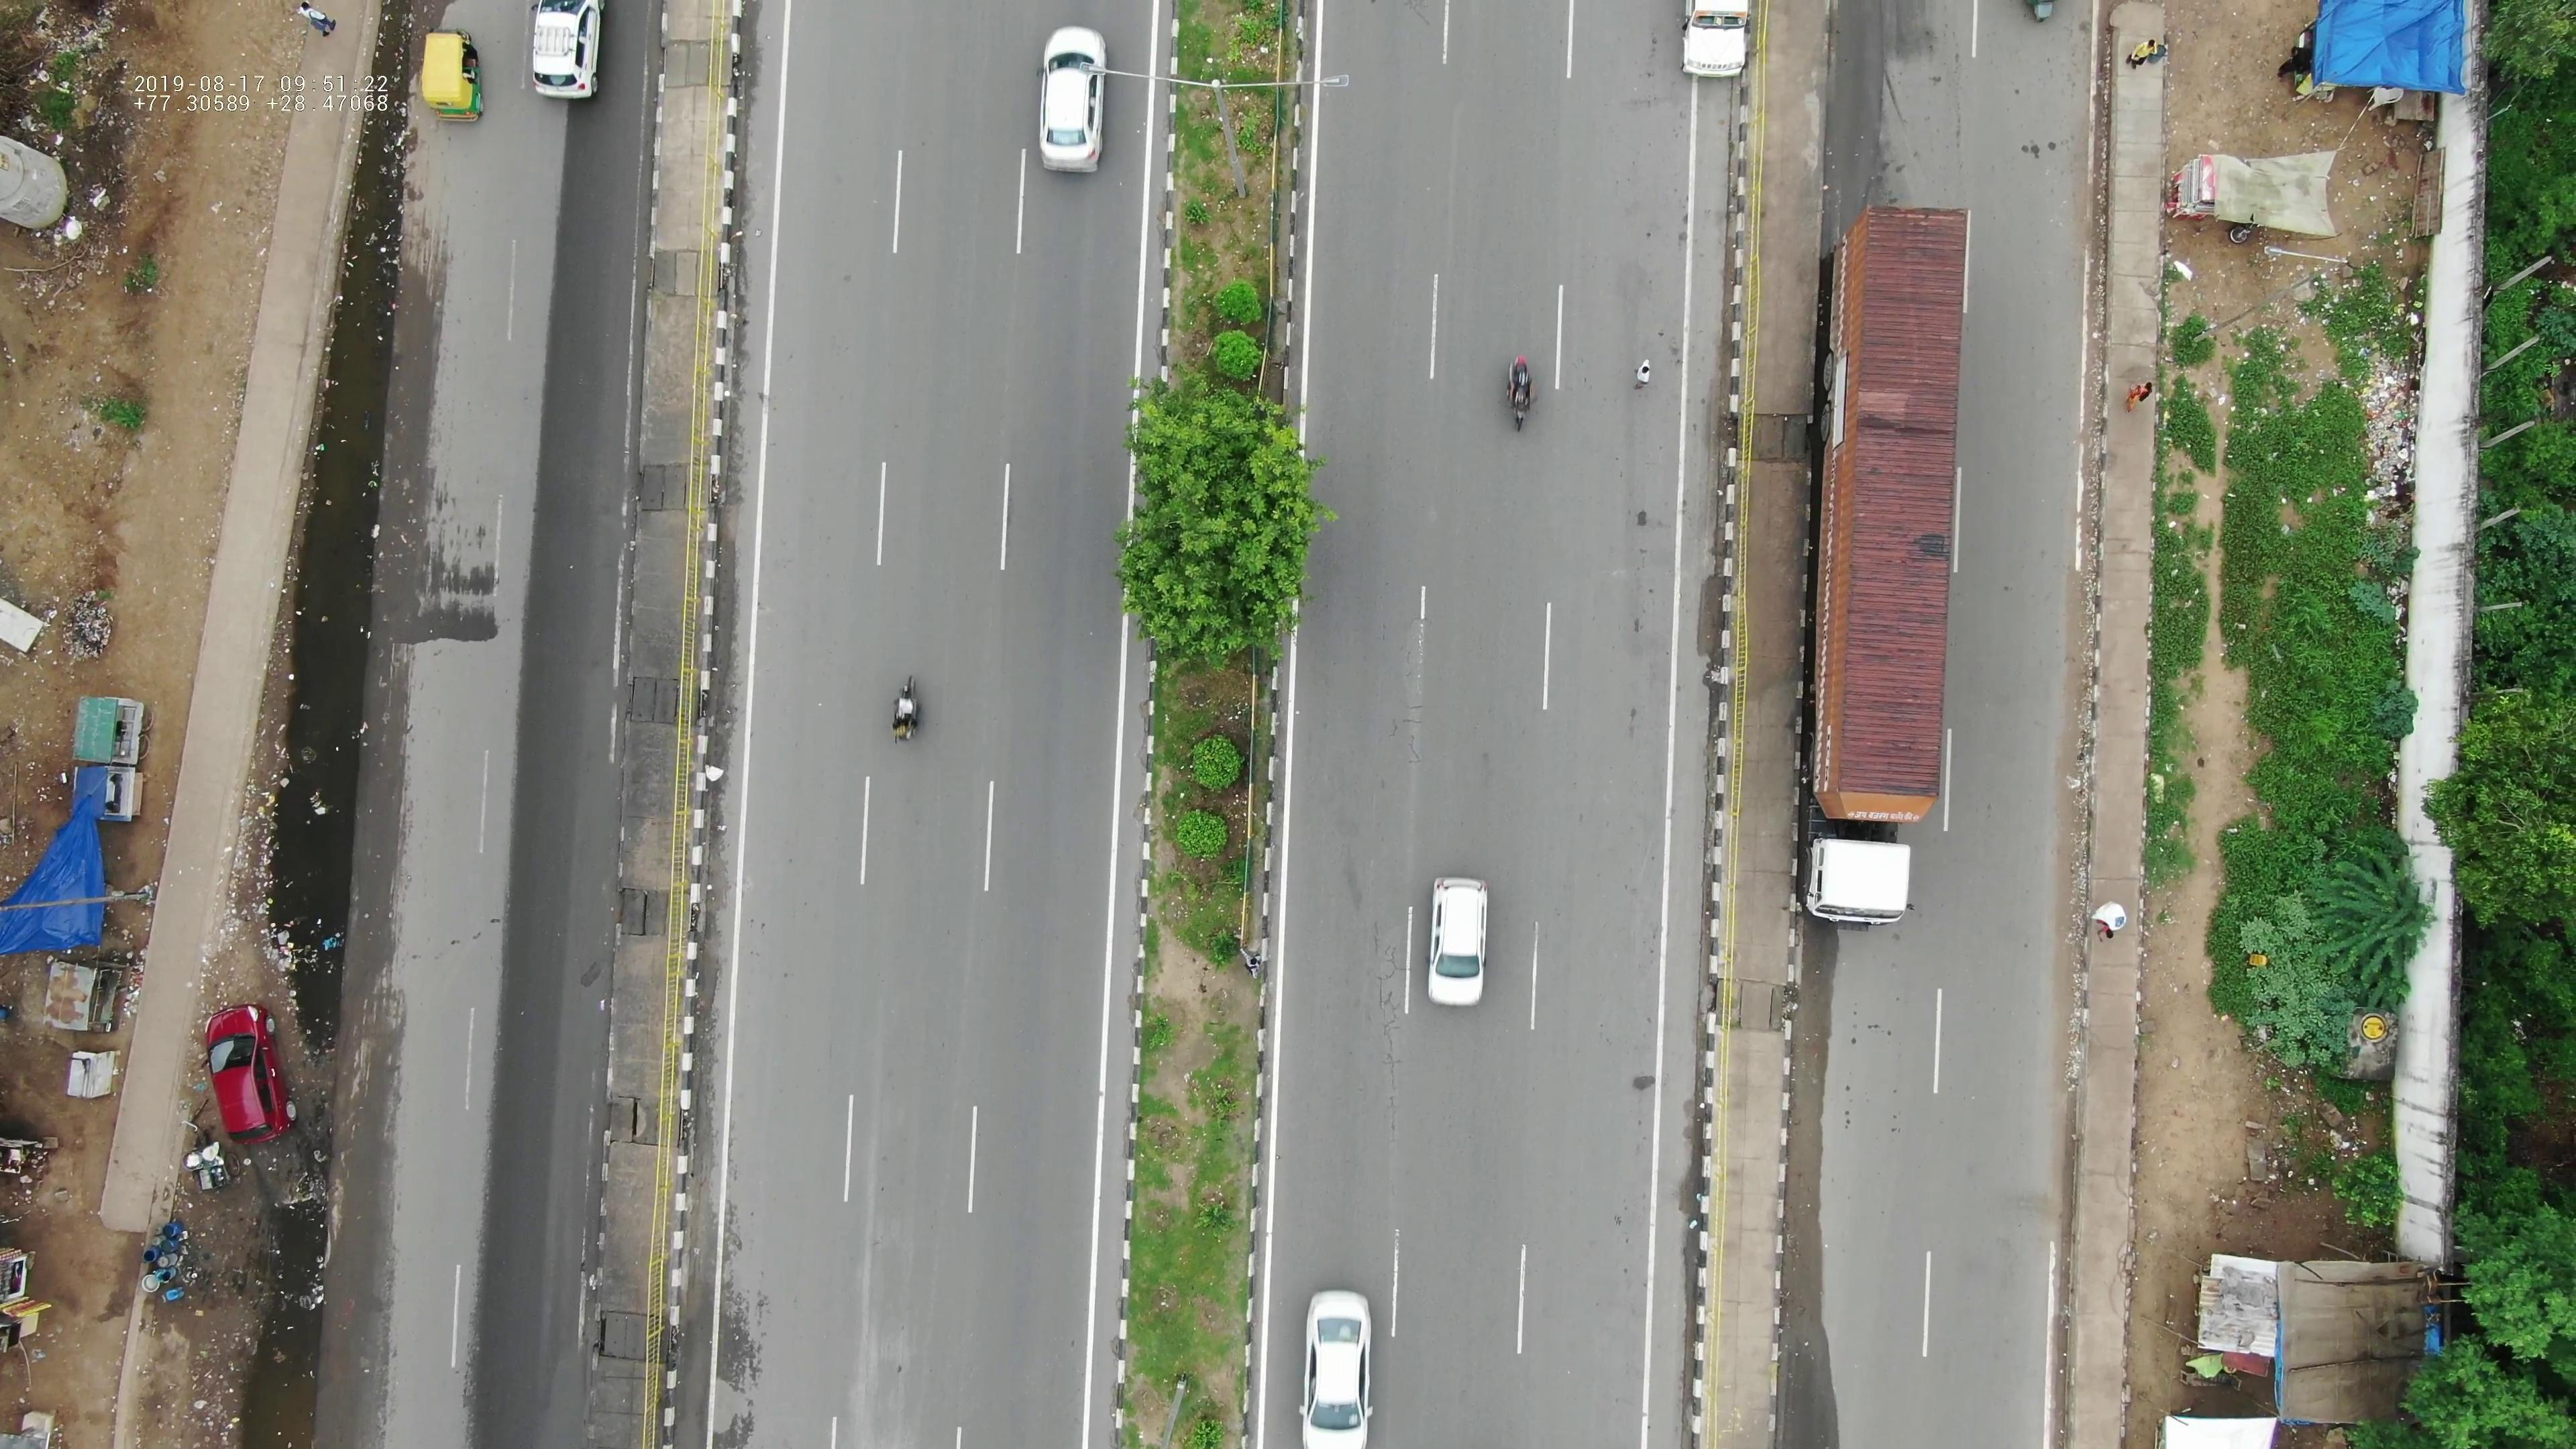Road_side_garbage: (2327, 333, 2429, 557)
Waterlogging: (281, 322, 395, 699), (264, 701, 364, 1019), (322, 5, 426, 306), (235, 1203, 331, 1449)
